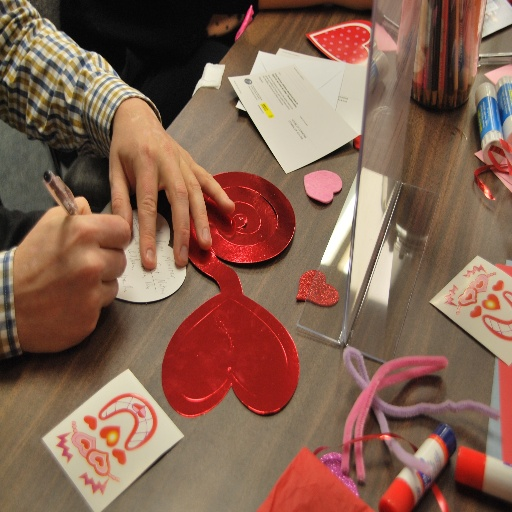hand: (6, 171, 132, 359), (108, 97, 235, 270)
